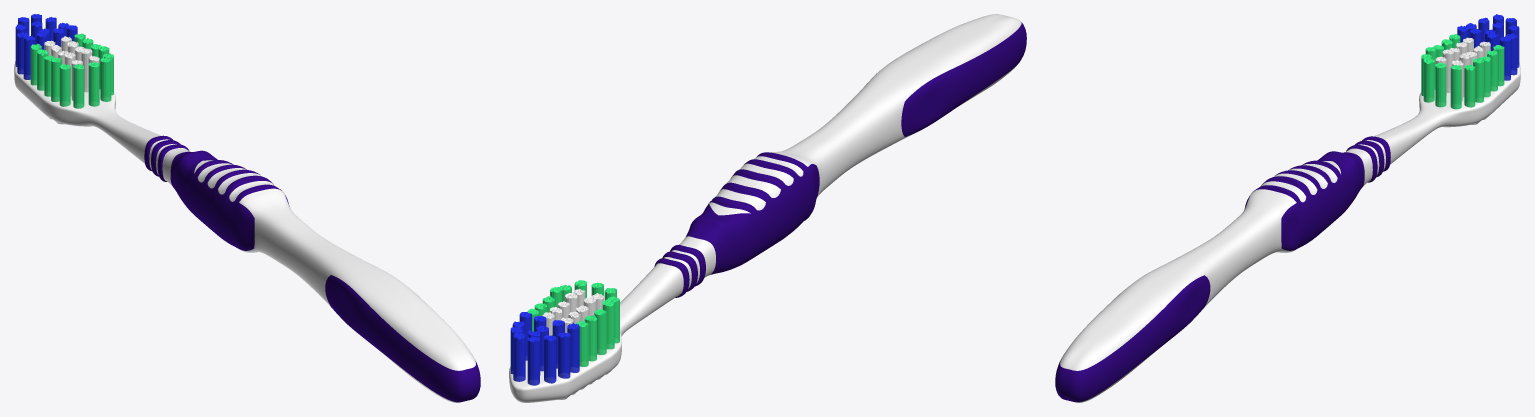
The model's file is toothbrush.fbx.
3 views of the same model, side by side, from view 1: azimuth 30°, elevation 25°; view 2: azimuth 150°, elevation 25°; view 3: azimuth 330°, elevation 25° (orthographic). The views are drawn at different scales.
Visible parts, largest first — view 1: Box001, Cylinder001; view 2: Box001, Cylinder001; view 3: Box001, Cylinder001.
Part boxes in pixels (x1=…): Box001: x1=14, y1=61, x2=480, y2=402; Cylinder001: x1=15, y1=14, x2=113, y2=108; Box001: x1=509, y1=14, x2=1026, y2=402; Cylinder001: x1=510, y1=280, x2=619, y2=385; Box001: x1=1055, y1=62, x2=1520, y2=402; Cylinder001: x1=1421, y1=14, x2=1519, y2=109.
Size of the model in its own units: 14.33 by 14.83 by 173.
